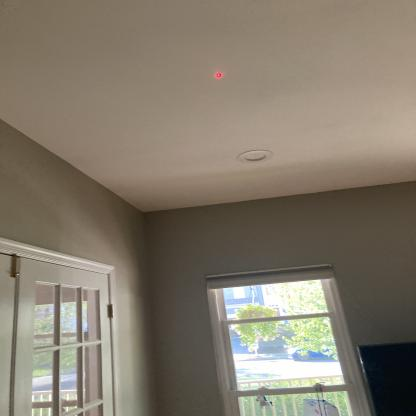target: (214, 72, 226, 78)
